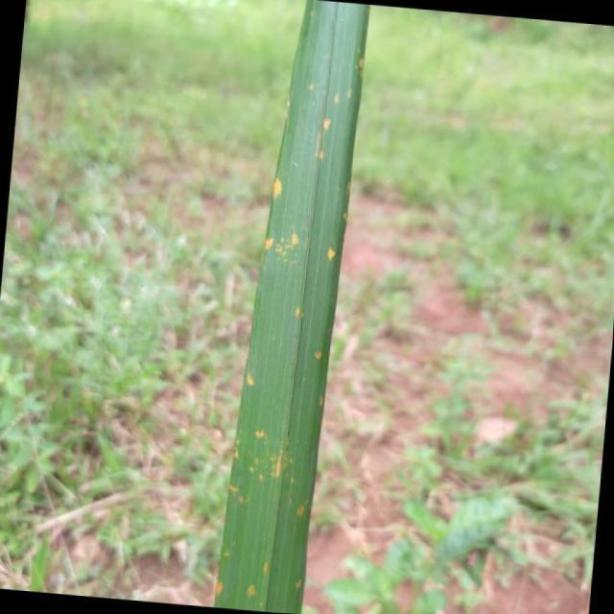Kalium: (213, 5, 369, 614)
